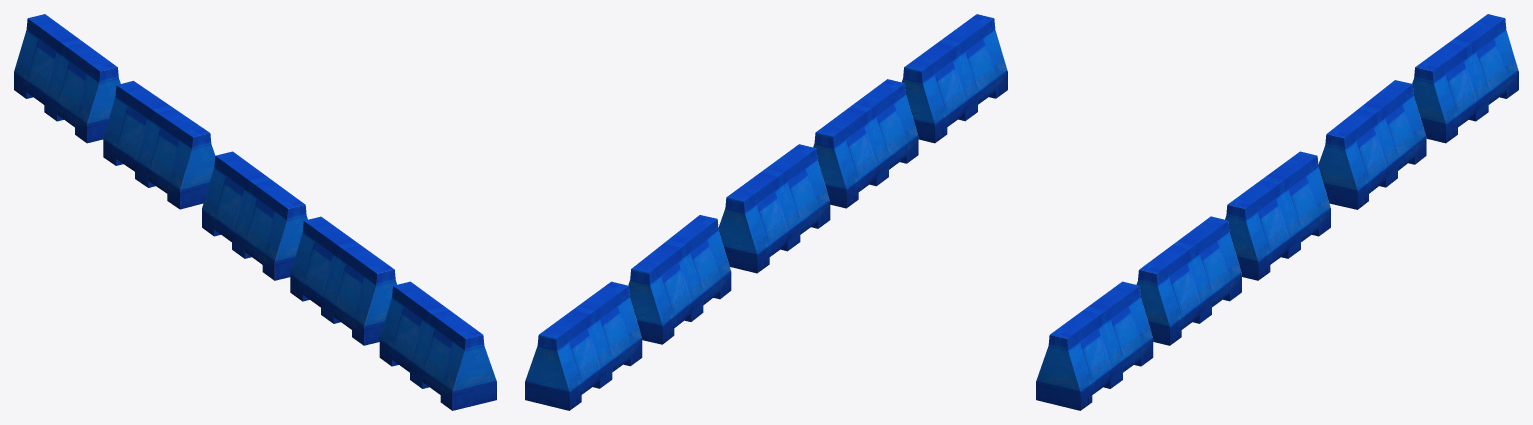
File: Barrier-Blue-five.obj
3 renders of one model, left to right at view 1: azimuth 30°, elevation 25°; view 2: azimuth 150°, elevation 25°; view 3: azimuth 330°, elevation 25°, orthographic.
Parts seen in each view (by area): view 1: Barrier_Cube.001; view 2: Barrier_Cube.001; view 3: Barrier_Cube.001.
Part boxes in pixels (x1,y1,x2,y2): Barrier_Cube.001: (14,14,496,410); Barrier_Cube.001: (525,14,1007,410); Barrier_Cube.001: (1036,14,1518,410).
Size of the model in its own units: 0.7685 by 1.04 by 12.04.
